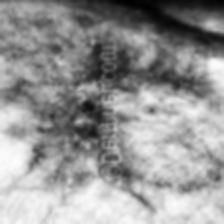Potentially Malignant Skin Tumors: (56, 102, 106, 142)
